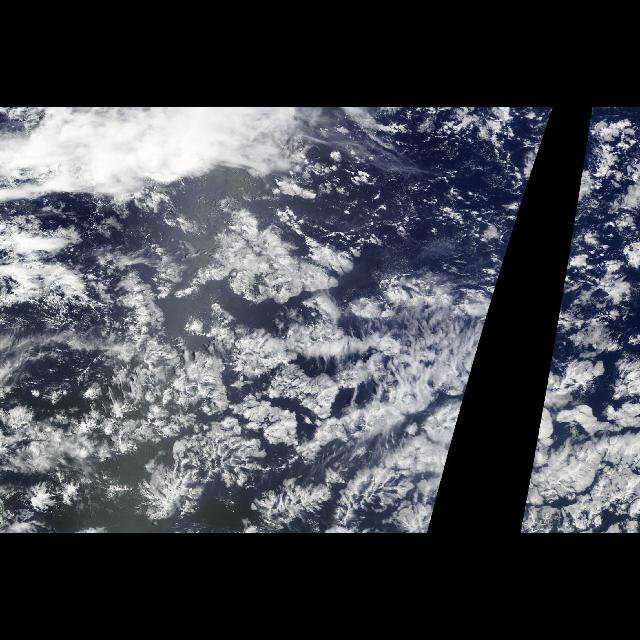Flower: (142, 206, 370, 520)
Gravel: (350, 142, 498, 270)
